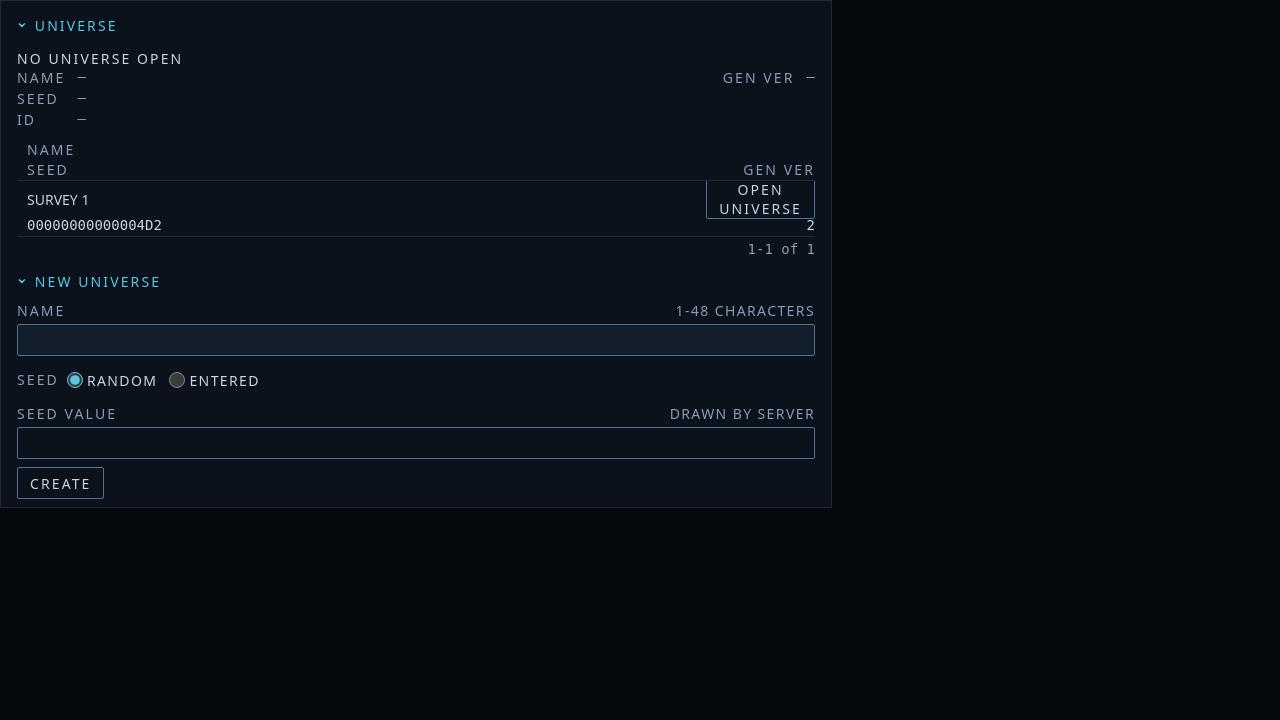
Test case: GalaxyDisplay › drops the empty state once a universe opens
This screenshot has width=1280, height=720.
Click the button with aria-label "Open universe SURVEY 1": (761, 199) top-left (706, 179), bottom-right (815, 219)
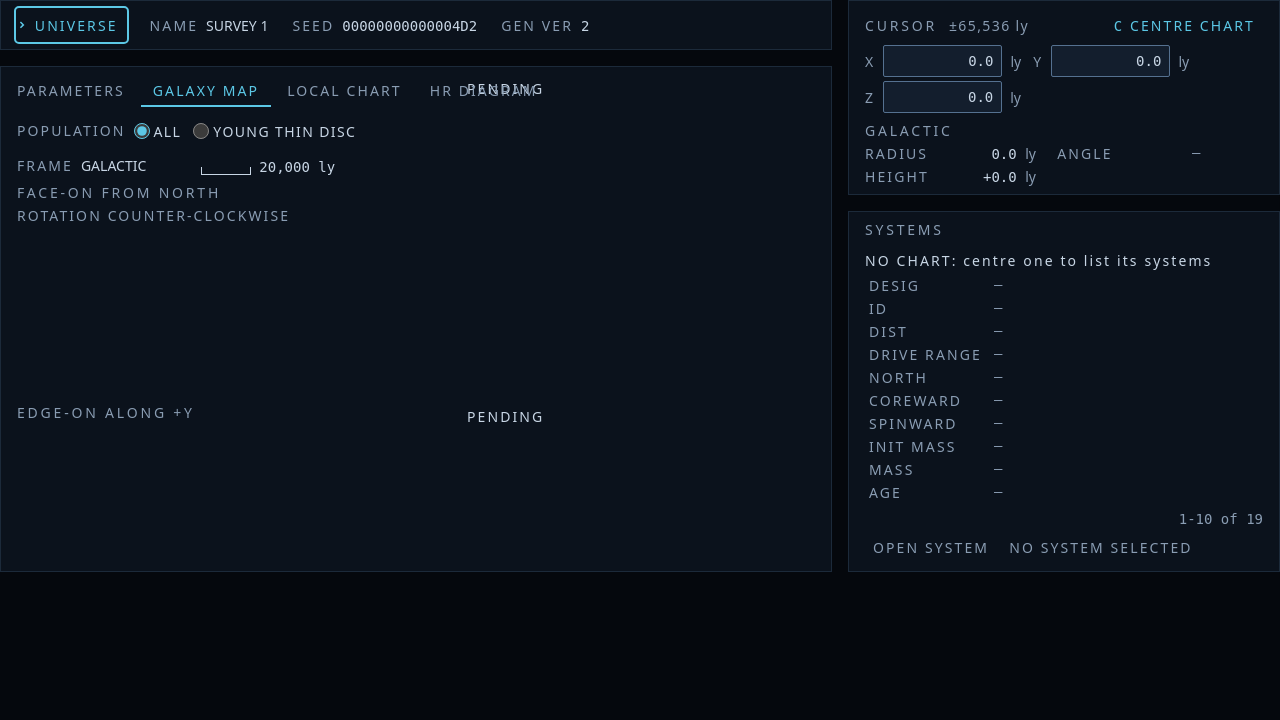
Check: the text "NO UNIVERSE OPEN" is gone
